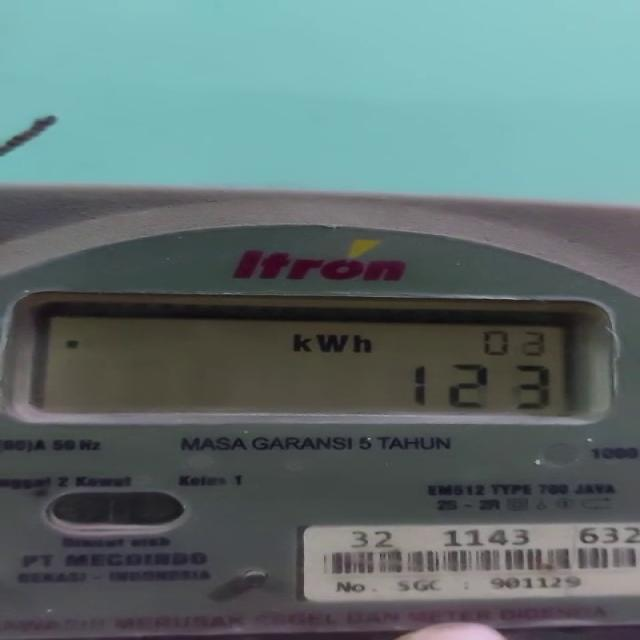LCD: (0, 287, 640, 437)
